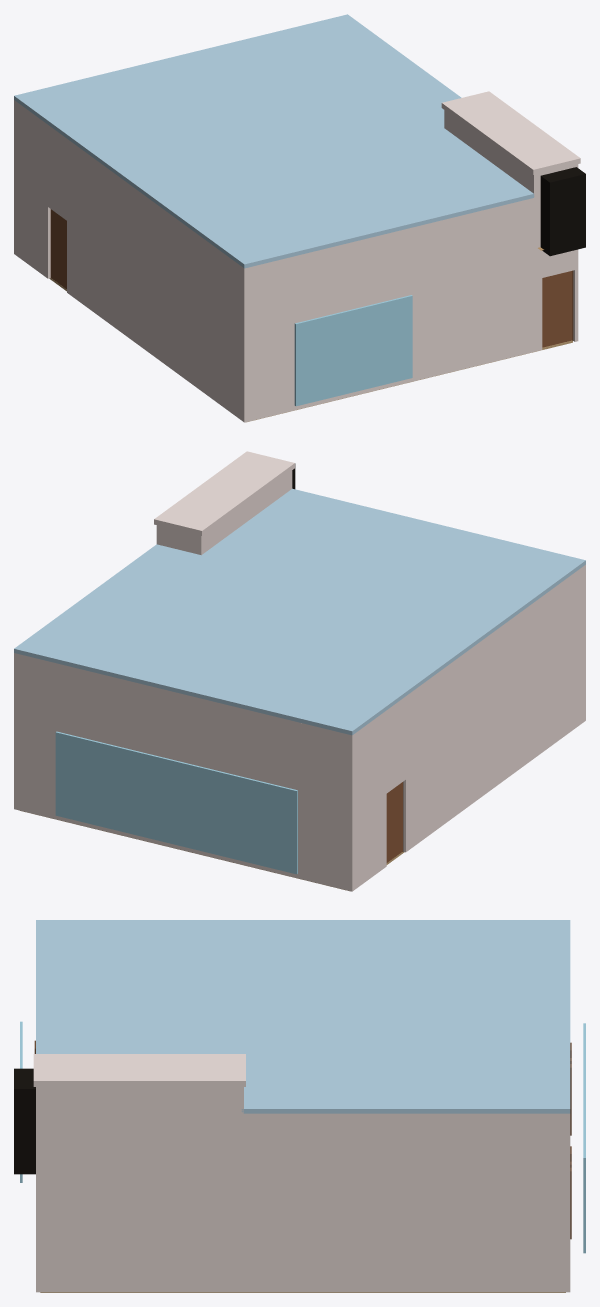
Rendered from room_bed1.glb.
3 views of the same model, one above another, from view 1: azimuth 30°, elevation 25°; view 2: azimuth 150°, elevation 25°; view 3: azimuth 270°, elevation 25° (orthographic). The views are drawn at different scales.
Parts seen in each view (by area): view 1: CEILING, WALLS, VIEW_window, SHAFT, STAIRWELL, DOOR_stairs_down, DOOR_corridor; view 2: CEILING, WALLS, VIEW_window_s, SHAFT, DOOR_corridor; view 3: CEILING, WALLS, SHAFT, STAIRWELL, VIEW_window_s, FLOOR_visible.
Boxes of the visible parts, x1,y1,x2,y2 form: CEILING: (14, 14, 534, 268); WALLS: (14, 100, 578, 422); VIEW_window: (294, 295, 412, 406); SHAFT: (441, 91, 580, 249); STAIRWELL: (540, 167, 585, 256); DOOR_stairs_down: (542, 270, 572, 347); DOOR_corridor: (51, 209, 66, 288); CEILING: (14, 488, 585, 735); WALLS: (14, 564, 585, 891); VIEW_window_s: (55, 731, 297, 874); SHAFT: (154, 451, 294, 555); DOOR_corridor: (386, 782, 402, 862); CEILING: (36, 920, 570, 1113); WALLS: (36, 1113, 570, 1292); SHAFT: (33, 1054, 245, 1173); STAIRWELL: (14, 1068, 35, 1174); VIEW_window_s: (583, 1023, 585, 1253); FLOOR_visible: (40, 1292, 565, 1292).
Bounding box in the file's own units: 10.25 × 5.41 × 13.06.
